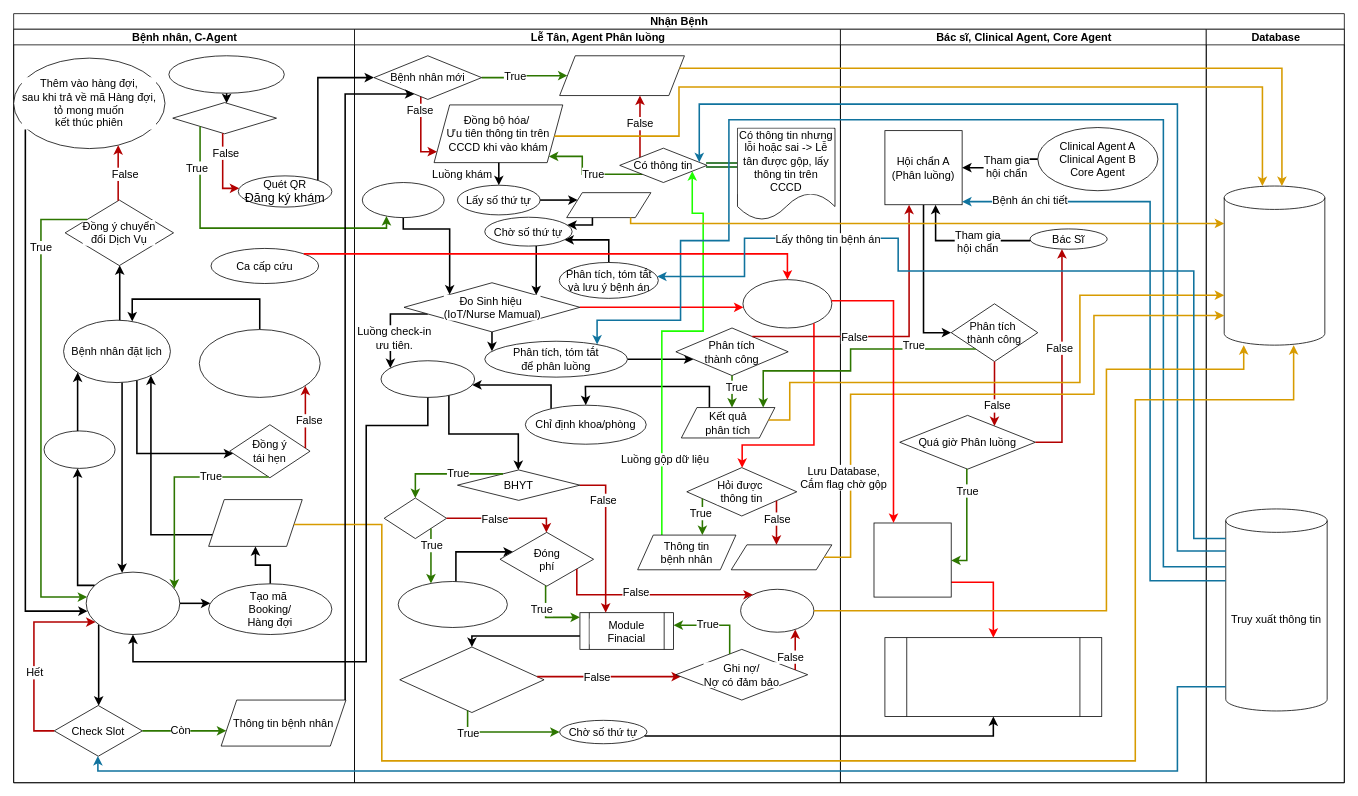
Some shapes in this 1358 by 796 pixel diagram are drawn without their labels. The shapes that lost their labels are listed below. From the top down, each one's centre as x and y in pixels, then its label:
At (x=226, y=74): "Bệnh nhân đến khám".
At (x=621, y=75): "Nhập thông tin mới".
At (x=224, y=118): "Có đặt lịch".
At (x=403, y=200): "Check-in".
At (x=608, y=205): "Số thứ tự".
At (x=1274, y=265): "Lưu thông tin".
At (x=787, y=303): "Sinh hiệu bất thường/ Cấp cứu".
At (x=259, y=363): "Gợi ý dịch vụ khác (VIP, Không BHYT, ...)".
At (x=427, y=378): "Nhân viên xác nhận".
At (x=79, y=449): "Tái hẹn".
At (x=255, y=522): "Mã Booking/ Hàng đợi".
At (x=415, y=518): "Hợp lệ".
At (x=781, y=557): "Tạo ID nặc danh".
At (x=912, y=559): "Hội chẩn B (Hội chẩn cấp cứu)".
At (x=132, y=603): "Consultant Agent".
At (x=452, y=604): "Kiểm tra đối tượng miễn giảm, ...".
At (x=777, y=610): "Hủy khám".
At (x=471, y=679): "Đã đóng phí/ Ghi nợ/ Nợ đảm bảo".
At (x=993, y=676): "Module Khám/Chữa bệnh".
